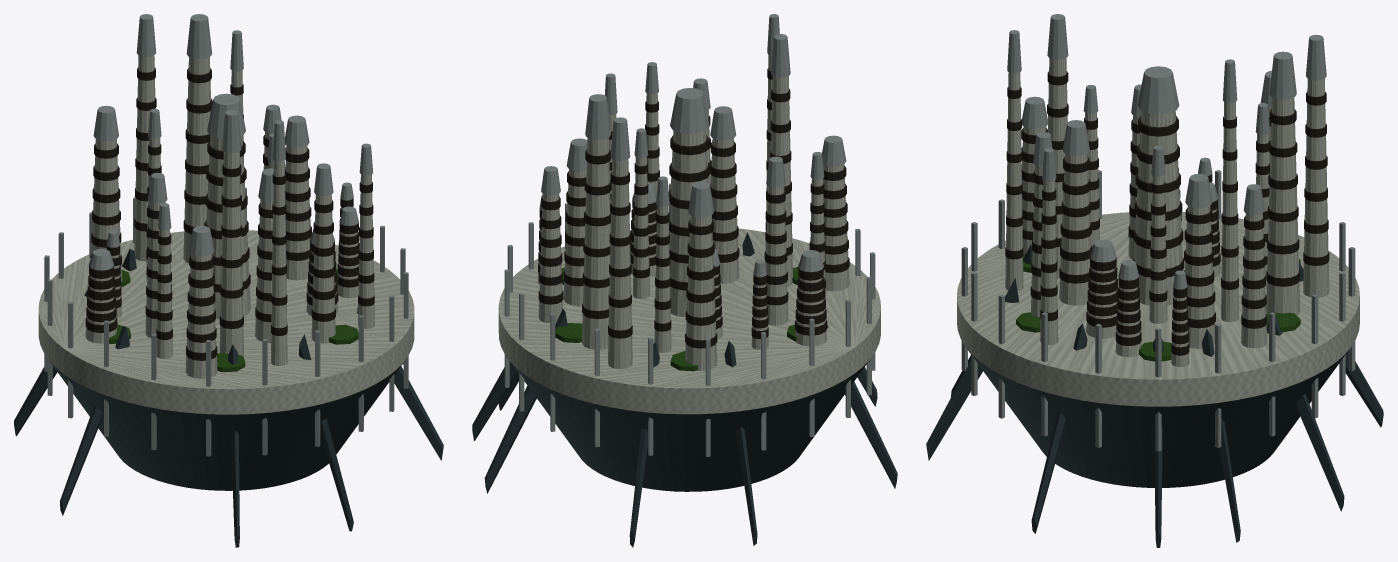
File: fallen_city_01.fbx
3 renders of one model, left to right at view 1: azimuth 30°, elevation 25°; view 2: azimuth 150°, elevation 25°; view 3: azimuth 270°, elevation 25°, orthographic. The views are drawn at different scales.
Visible parts, largest first — view 1: fallen_city_01_LOD0; view 2: fallen_city_01_LOD0; view 3: fallen_city_01_LOD0.
Boxes of the visible parts, x1,y1,x2,y2 form: fallen_city_01_LOD0: [14, 14, 443, 547]; fallen_city_01_LOD0: [472, 14, 897, 547]; fallen_city_01_LOD0: [926, 14, 1383, 547].
Size of what is drawn, in the model's own units: 1 by 1 by 1.
